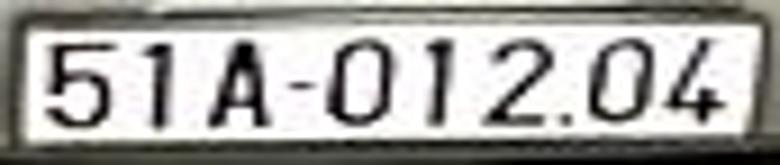-: (285, 76, 317, 93)
.: (557, 108, 578, 129)
0: (586, 35, 656, 127), (324, 40, 393, 125)
1: (142, 42, 182, 135), (422, 36, 452, 126)
2: (482, 35, 553, 130)
4: (661, 37, 731, 126)
5: (47, 38, 115, 132)
A: (202, 40, 272, 129)
